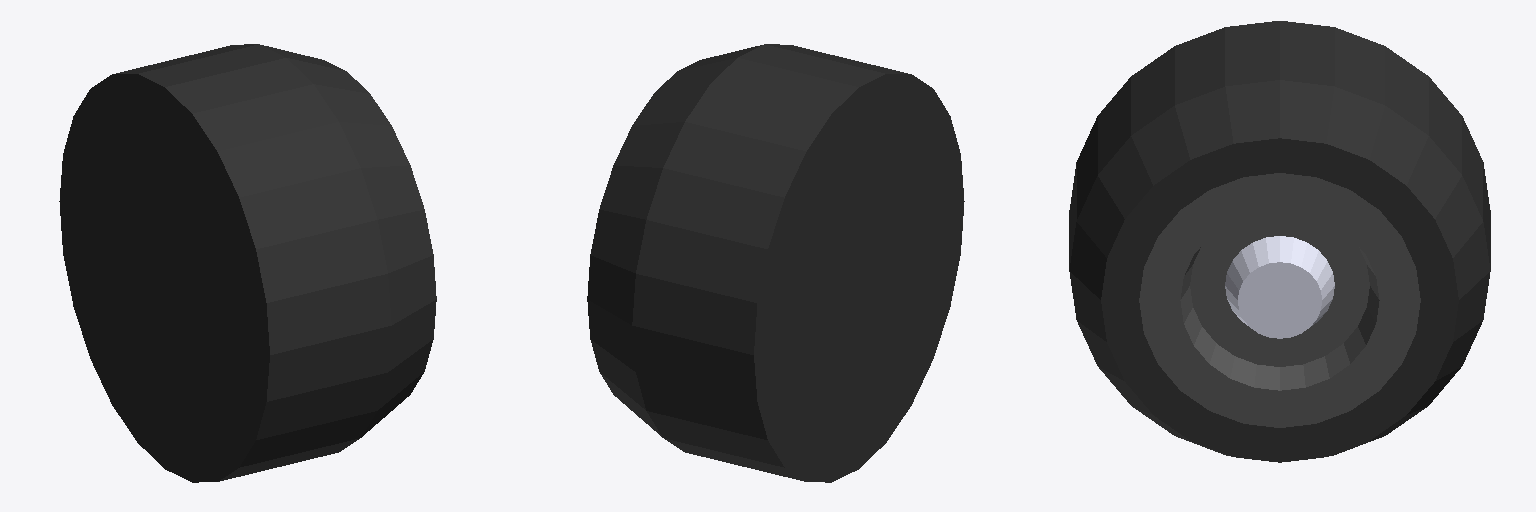
Rendered from wheelTractorDarkBack.obj.
3 views of the same model, side by side, from view 1: azimuth 30°, elevation 25°; view 2: azimuth 150°, elevation 25°; view 3: azimuth 270°, elevation 25° (orthographic).
Parts seen in each view (by area): view 1: wheelTractorDarkBack; view 2: wheelTractorDarkBack; view 3: wheelTractorDarkBack.
Boxes of the visible parts, box(x1,y1,x2,y2) form: wheelTractorDarkBack: box(59, 44, 436, 482); wheelTractorDarkBack: box(587, 44, 964, 482); wheelTractorDarkBack: box(1069, 21, 1490, 462).
Size of the model in its own units: 0.4376 by 0.8752 by 0.8752.